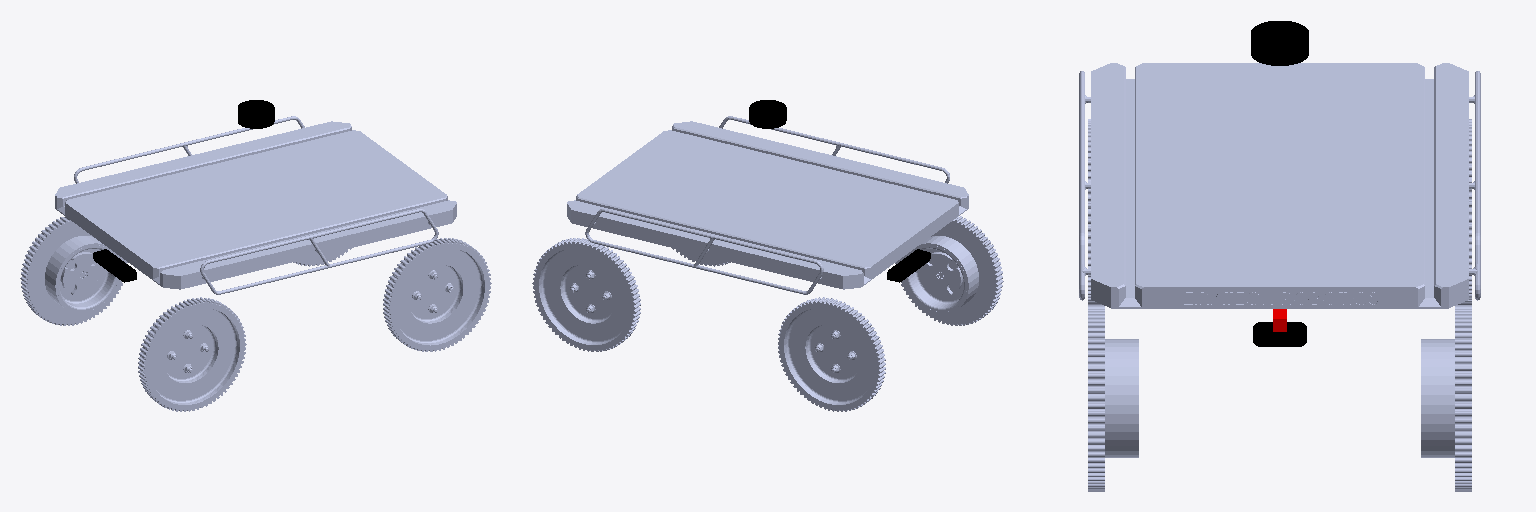
The robot description file, URDF, robot "cropMap_urdf":
<?xml version="1.0" ?> 
<robot name="cropMap_urdf" xmlns:xacro="http://www.ros.org/wiki/xacro"> 

  <!-- Include Gazebo colors --> 
  <material name="dark_grey"> 
    <color rgba="0.3 0.3 0.3 1.0"/> 
  </material> 
  <material name="light_grey"> 
    <color rgba="0.79216 0.81961 0.93333 1"/> 
  </material> 
  <material name="blue"> 
    <color rgba="0.0 0.0 0.8 1.0"/> 
  </material> 
  <material name="black"> 
    <color rgba="0.0 0.0 0.0 1.0"/> 
  </material> 
  <material name="red">
    <color rgba="1.0 0.0 0.0 1.0"/>
  </material>

  <!-- Base footprint (MUST BE FIRST/ROOT LINK) --> 
  <link name="base_footprint">
    <inertial>
      <mass value="0.1"/>
      <origin xyz="0 0 0"/>
      <inertia ixx="0.01" ixy="0.0" ixz="0.0" iyy="0.01" iyz="0.0" izz="0.01"/>
    </inertial>
  </link>

  <!-- Base Link --> 
  <link name="base_link"> 
    <inertial> 
      <origin xyz="0.018582 -0.00058815 -0.099852" rpy="0 0 0" /> 
      <mass value="32.31" /> 
      <inertia 
        ixx="0.92" ixy="0" ixz="0" 
        iyy="3.12" iyz="0" 
        izz="2.87" /> 
    </inertial> 
    <visual> 
      <origin xyz="0 0 0" rpy="0 0 0" /> 
      <geometry> 
	      <mesh filename="package://robot_description/meshes/base_link.STL" /> 
      </geometry> 
      <material name="light_grey"/> 
    </visual> 
    <collision> 
      <origin xyz="0 0 0" rpy="0 0 0" /> 
      <geometry> 
        <mesh filename="package://robot_description/meshes/base_link.STL" /> 
      </geometry> 
    </collision> 
  </link> 

  <!-- Joint between base_footprint and base_link -->
  <joint name="base_footprint_ref_joint" type="fixed"> 
    <origin xyz="0 0 .25" rpy="0 0 0" /> 
    <parent link="base_footprint" /> 
    <child link="base_link" /> 
    <axis xyz="0 1 0" /> 
  </joint> 

  <!-- Gazebo material for base_link --> 
  <gazebo reference="base_link"> 
    <material>Gazebo/Gray</material> 
  </gazebo> 

  <!-- Front Right Wheel --> 
  <link name="wheel_front_right"> 
    <inertial> 
      <origin xyz="-3.8916E-11 0.012822 1.02E-07" rpy="0 0 0" /> 
      <mass value=".041" /> 
      <inertia 
        ixx="0.04" ixy="0.0" ixz="0.0" 
        iyy="0.05" iyz="0.0" 
        izz="0.04" /> 
    </inertial> 
    <visual> 
      <origin xyz="0 0 0" rpy="0 0 0" /> 
      <geometry> 
        <mesh filename="package://robot_description/meshes/wheel_front_right.STL" /> 
      </geometry> 
      <material name="light_grey"/> 
    </visual> 
    <collision> 
      <origin xyz="0 0 0" rpy="0 0 0" /> 
      <geometry> 
        <mesh filename="package://robot_description/meshes/wheel_front_right.STL" /> 
      </geometry> 
    </collision> 
  </link> 

  <joint name="wheel_front_right_joint" type="continuous"> 
    <origin xyz="0.37976 0.2802 -0.078259" rpy="0 0 0" /> 
    <parent link="base_link" /> 
    <child link="wheel_front_right" /> 
    <axis xyz="0 1 0" /> 
    <dynamics damping="0.0001" friction="0.0001" /> 
  </joint> 

  <!-- Gazebo plugin for front right wheel --> 
  <gazebo reference="wheel_front_right"> 
    <material>Gazebo/DarkGray</material> 
    <mu1>1.0</mu1> 
    <mu2>1.0</mu2> 
    <kp>1000000.0</kp> 
    <kd>100.0</kd> 
    <minDepth>0.001</minDepth> 
    <maxVel>1.0</maxVel> 
    <fdir1>1 0 0</fdir1> 
  </gazebo> 

  <!-- Back Right Wheel --> 
  <link name="wheel_back_right"> 
    <inertial> 
      <origin xyz="-3.8916E-11 0.012822 1.02E-07" rpy="0 0 0" /> 
      <mass value=".041" /> 
      <inertia 
        ixx="0.04" ixy="0.0" ixz="0.0" 
        iyy="0.05" iyz="0.0" 
        izz="0.04" /> 
    </inertial> 
    <visual> 
      <origin xyz="0 0 0" rpy="0 0 0" /> 
      <geometry> 
        <mesh filename="package://robot_description/meshes/wheel_back_right.STL" /> 
      </geometry> 
      <material name="light_grey"/> 
    </visual> 
    <collision> 
      <origin xyz="0 0 0" rpy="0 0 0" /> 
      <geometry> 
        <mesh filename="package://robot_description/meshes/wheel_back_right.STL" /> 
      </geometry> 
    </collision> 
  </link> 
 
  <joint name="wheel_back_right_joint" type="continuous"> 
    <origin xyz="-0.38026 0.2802 -0.078259" rpy="0 0 0" /> 
    <parent link="base_link" /> 
    <child link="wheel_back_right" /> 
    <axis xyz="0 1 0" /> 
    <dynamics damping="0.0001" friction="0.0001" /> 
  </joint> 

  <!-- Gazebo plugin for back right wheel --> 
  <gazebo reference="wheel_back_right"> 
    <material>Gazebo/DarkGray</material> 
    <mu1>1.0</mu1> 
    <mu2>1.0</mu2> 
    <kp>1000000.0</kp> 
    <kd>100.0</kd> 
    <minDepth>0.001</minDepth> 
    <maxVel>1.0</maxVel> 
    <fdir1>1 0 0</fdir1> 
  </gazebo> 

  <!-- Back Left Wheel --> 
  <link name="wheel_back_left"> 
    <inertial> 
      <origin xyz="-1.02E-07 -0.012822 3.8916E-11" rpy="0 0 0" /> 
      <mass value=".041" /> 
      <inertia 
        ixx="0.04" ixy="0.0" ixz="0.0" 
        iyy="0.05" iyz="0.0" 
        izz="0.04" /> 
    </inertial> 
    <visual> 
      <origin xyz="0 0 0" rpy="0 0 0" /> 
      <geometry> 
        <mesh filename="package://robot_description/meshes/wheel_back_left.STL" /> 
      </geometry> 
      <material name="light_grey"/> 
    </visual> 
    <collision> 
      <origin xyz="0 0 0" rpy="0 0 0" /> 
      <geometry> 
        <mesh filename="package://robot_description/meshes/wheel_back_left.STL" /> 
      </geometry> 
    </collision> 
  </link> 

  <joint name="wheel_back_left_joint" type="continuous"> 
    <origin xyz="-0.38026 -0.2802 -0.078259" rpy="0 0 0" /> 
    <parent link="base_link" /> 
    <child link="wheel_back_left" /> 
    <axis xyz="0 1 0" /> 
    <dynamics damping="0.0001" friction="0.0001" /> 
  </joint> 
 
  <!-- Gazebo plugin for back left wheel --> 
  <gazebo reference="wheel_back_left"> 
    <material>Gazebo/DarkGray</material> 
    <mu1>1.0</mu1> 
    <mu2>1.0</mu2> 
    <kp>1000000.0</kp> 
    <kd>100.0</kd> 
    <minDepth>0.001</minDepth> 
    <maxVel>1.0</maxVel> 
    <fdir1>1 0 0</fdir1> 
  </gazebo> 

  <!-- Front Left Wheel --> 
  <link name="wheel_front_left"> 
    <inertial> 
      <origin xyz="3.8916E-11 -0.012822 1.02E-07" rpy="0 0 0" /> 
      <mass value=".041" /> 
      <inertia 
        ixx="0.04" ixy="0.0" ixz="0.0" 
        iyy="0.05" iyz="0.0" 
        izz="0.04" /> 
    </inertial> 
    <visual> 
      <origin xyz="0 0 0" rpy="0 0 0" /> 
      <geometry> 
        <mesh filename="package://robot_description/meshes/wheel_front_left.STL" /> 
      </geometry> 
      <material name="light_grey"/> 
    </visual> 
    <collision> 
      <origin xyz="0 0 0" rpy="0 0 0" /> 
      <geometry> 
        <mesh filename="package://robot_description/meshes/wheel_front_left.STL" /> 
      </geometry> 
    </collision> 
  </link> 

  <joint name="wheel_front_left_joint" type="continuous"> 
    <origin xyz="0.37976 -0.2802 -0.078259" rpy="0 0 0" /> 
    <parent link="base_link" /> 
    <child link="wheel_front_left" /> 
    <axis xyz="0 1 0" /> 
    <dynamics damping="0.0001" friction="0.0001" /> 
  </joint> 

  <!-- Gazebo plugin for front left wheel --> 
  <gazebo reference="wheel_front_left"> 
    <material>Gazebo/DarkGray</material> 
    <mu1>1.0</mu1> 
    <mu2>1.0</mu2> 
    <kp>1000000.0</kp> 
    <kd>100.0</kd> 
    <minDepth>0.001</minDepth> 
    <maxVel>1.0</maxVel> 
    <fdir1>1 0 0</fdir1> 
  </gazebo> 

  <!-- TC_V0 --> 
  <link name="TC_V0"> 
    <inertial> 
      <origin xyz="-7.5077E-05 -2.3538E-06 -0.015092" rpy="0 0 0" /> 
      <mass value="14.01" /> 
      <inertia 
        ixx="0.66" ixy="0.0" ixz="0.0" 
        iyy="1.01" iyz="0.0" 
        izz="1.66" /> 
    </inertial> 
    <visual> 
      <origin xyz="0 0 0" rpy="0 0 0" /> 
      <geometry> 
        <mesh filename="package://robot_description/meshes/TC_V0.STL" /> 
      </geometry> 
      <material name="light_grey"/> 
    </visual> 
    <collision> 
      <origin xyz="0 0 0" rpy="0 0 0" /> 
      <geometry> 
        <mesh filename="package://robot_description/meshes/TC_V0.STL" /> 
      </geometry> 
    </collision> 
  </link> 

  <joint name="TC_V0_joint" type="fixed"> 
    <origin xyz="0 0 0.16825" rpy="0 0 0" /> 
    <parent link="base_link" /> 
    <child link="TC_V0" /> 
  </joint> 

  <gazebo reference="TC_V0"> 
    <material>Gazebo/Gray</material> 
  </gazebo> 

  <!-- Add LiDAR sensor --> 
  <link name="lidar_link"> 
    <inertial> 
      <origin xyz="0 0 0" rpy="0 0 0" /> 
      <mass value="0.1" /> 
      <inertia 
        ixx="0.001" ixy="0.0" ixz="0.0" 
        iyy="0.001" iyz="0.0" 
        izz="0.001" /> 
    </inertial> 
    <visual> 
      <origin xyz="0 0 0" rpy="0 0 0" /> 
      <geometry> 
        <cylinder radius="0.05" length="0.04"/> 
      </geometry> 
      <material name="black"/> 
    </visual> 
    <collision> 
      <origin xyz="0 0 0" rpy="0 0 0" /> 
      <geometry> 
        <cylinder radius="0.05" length="0.04"/> 
      </geometry> 
    </collision> 
  </link> 

  <joint name="lidar_joint" type="fixed"> 
    <origin xyz="0 0 0.25" rpy="0 0 0" /> 
    <parent link="TC_V0" /> 
    <child link="lidar_link" /> 
  </joint> 

  <!-- CORRECTED Gazebo plugin for LiDAR --> 
  <gazebo reference="lidar_link">
    <sensor name="lidar_sensor" type="gpu_lidar">
      <pose>0 0 0 0 0 0</pose>
      <visualize>true</visualize>
      <update_rate>10</update_rate>
      <lidar>
        <scan>
          <horizontal>
            <samples>360</samples>
            <resolution>1</resolution>
            <min_angle>-3.14159</min_angle>
            <max_angle>3.14159</max_angle>
          </horizontal>
        </scan>
        <range>
          <min>0.1</min>
          <max>30.0</max>
          <resolution>0.01</resolution>
        </range>
        <noise>
          <type>gaussian</type>
          <mean>0.0</mean>
          <stddev>0.01</stddev>
        </noise>
      </lidar>
      <plugin filename="libgz-sim-sensors-system.so" name="gz::sim::systems::Sensors">
        <render_engine>ogre2</render_engine>
      </plugin>
    </sensor>
  </gazebo> 

  <!-- IMU Sensor --> 
  <link name="imu_link"> 
    <inertial> 
      <mass value="0.01"/> 
      <origin xyz="0 0 0" rpy="0 0 0"/> 
      <inertia ixx="0.0001" ixy="0" ixz="0" iyy="0.0001" iyz="0" izz="0.0001"/> 
    </inertial> 
    <visual> 
      <origin xyz="0 0 0" rpy="0 0 0"/> 
      <geometry> 
        <box size="0.02 0.02 0.01"/> 
      </geometry> 
      <material name="blue"/> 
    </visual> 
    <collision> 
      <origin xyz="0 0 0" rpy="0 0 0"/> 
      <geometry> 
        <box size="0.02 0.02 0.01"/> 
      </geometry> 
    </collision> 
  </link> 
 
  <joint name="imu_joint" type="fixed"> 
    <parent link="base_link"/> 
    <child link="imu_link"/> 
    <origin xyz="0 0 0.1" rpy="0 0 0"/> 
  </joint> 

  <!-- CORRECTED IMU plugin -->
  <gazebo reference="imu_link">
    <sensor name="imu_sensor" type="imu">
      <always_on>true</always_on>
      <update_rate>100</update_rate>
      <visualize>true</visualize>
      <plugin filename="libgz-sim-imu-system.so" name="gz::sim::systems::Imu">
      </plugin>
    </sensor>
  </gazebo>

  <!-- Add RGB-D Sensor --> 
  <link name="rgbd_camera_link"> 
    <inertial> 
      <origin xyz="0 0 0" rpy="0 0 0" /> 
      <mass value="0.125" /> 
      <inertia 
        ixx="0.001" ixy="0.0" ixz="0.0" 
        iyy="0.001" iyz="0.0" 
        izz="0.001" /> 
    </inertial> 
    <visual> 
      <origin xyz="0 0 0" rpy="0 0 0" /> 
      <geometry> 
        <box size="0.07 0.025 0.025"/> 
      </geometry> 
      <material name="red"/> 
    </visual> 
    <collision> 
      <origin xyz="0 0 0" rpy="0 0 0" /> 
      <geometry> 
        <box size="0.07 0.025 0.025"/> 
      </geometry> 
    </collision> 
  </link> 
 
  <joint name="rgbd_camera_joint" type="fixed"> 
    <origin xyz="0.43 0 0.1" rpy="0 0 0" /> 
    <parent link="base_link" /> 
    <child link="rgbd_camera_link" /> 
  </joint> 
 
  <!-- CORRECTED RGB-D Camera Gazebo Plugin --> 
  <gazebo reference="rgbd_camera_link"> 
    <material>Gazebo/Red</material> 
    <sensor name="rgbd_camera" type="rgbd_camera"> 
      <update_rate>20.0</update_rate> 
      <pose>0 0 0 0 0 0</pose>
      <camera name="depth"> 
        <horizontal_fov>1.047198</horizontal_fov> 
        <image> 
          <width>640</width> 
          <height>480</height> 
          <format>R8G8B8</format> 
        </image> 
        <clip> 
          <near>0.05</near> 
          <far>8.0</far> 
        </clip> 
        <noise> 
          <type>gaussian</type> 
          <mean>0.0</mean> 
          <stddev>0.007</stddev> 
        </noise> 
      </camera> 
      <plugin filename="libgz-sim-sensors-system.so" name="gz::sim::systems::Sensors">
        <render_engine>ogre2</render_engine>
      </plugin> 
    </sensor> 
  </gazebo> 
 
  <!-- RGB-D Camera Optical Frame --> 
  <link name="rgbd_camera_optical_frame"/> 
  <joint name="rgbd_camera_optical_joint" type="fixed"> 
    <origin xyz="0 0 0" rpy="-1.5708 0 -1.5708" /> 
    <parent link="rgbd_camera_link" /> 
    <child link="rgbd_camera_optical_frame" /> 
  </joint> 

  <!-- Back Camera --> 
  <link name="back_camera"> 
    <inertial> 
      <origin xyz="-0.032487 0.0089676 -0.0027971" rpy="0 0 0" /> 
      <mass value="0.1" /> 
      <inertia 
        ixx="0.001" ixy="0.0" ixz="0.0" 
        iyy="0.001" iyz="0.0" 
	      izz="0.001" /> 
    </inertial> 
    <visual> 
      <origin xyz="0 0 0" rpy="0 0 0" /> 
      <geometry> 
        <mesh filename="package://robot_description/meshes/back_camera.STL" /> 
      </geometry> 
      <material name="black"/> 
    </visual> 
  </link> 

  <joint name="back_camera_joint" type="fixed"> 
    <origin xyz="-0.40479 -0.0089685 0.073466" rpy="0 0 0" /> 
    <parent link="base_link" /> 
    <child link="back_camera" /> 
  </joint> 

  <!-- CORRECTED Gazebo plugin for back camera --> 
  <gazebo reference="back_camera">
    <sensor name="back_camera" type="camera">
      <update_rate>30.0</update_rate>
      <pose>0 0 0 0 0 0</pose>
      <camera name="back">
        <horizontal_fov>1.047</horizontal_fov>
        <image>
          <width>640</width>
          <height>480</height>
          <format>R8G8B8</format>
        </image>
        <clip>
          <near>0.1</near>
          <far>100</far>
        </clip>
        <noise>
          <type>gaussian</type>
          <mean>0.0</mean>
          <stddev>0.007</stddev>
        </noise>
      </camera>
      <plugin filename="libgz-sim-sensors-system.so" name="gz::sim::systems::Sensors">
        <render_engine>ogre2</render_engine>
      </plugin>
    </sensor>
  </gazebo>

  <link name="back_camera_optical_frame"/>
  <joint name="back_camera_optical_joint" type="fixed">
    <origin xyz="0 0 0" rpy="-1.5708 0 1.5708" />
    <parent link="back_camera" />
    <child link="back_camera_optical_frame" />
  </joint>
 
  <!-- Front Camera --> 
  <link name="front_camera"> 
    <inertial> 
      <origin xyz="0.012395 -0.012586 0.0091516" rpy="0 0 0" /> 
      <mass value="0.1" /> 
      <inertia 
        ixx="0.001" ixy="0.0" ixz="0.0" 
        iyy="0.001" iyz="0.0" 
        izz="0.001" /> 
    </inertial> 
    <visual> 
      <origin xyz="0 0 0" rpy="0 0 0" /> 
      <geometry> 
        <mesh filename="package://robot_description/meshes/front_camera.STL" /> 
      </geometry> 
      <material name="black"/> 
    </visual> 
  </link> 

  <joint name="front_camera_joint" type="fixed"> 
    <origin xyz="0.42423 0.0126 0.060602" rpy="0 0 0" /> 
    <parent link="base_link" /> 
    <child link="front_camera" /> 
  </joint> 

  <!-- CORRECTED Gazebo plugin for front camera --> 
  <gazebo reference="front_camera">
    <sensor name="front_camera" type="camera">
      <update_rate>30.0</update_rate>
      <pose>0 0 0 0 0 0</pose>
      <camera name="front">
        <horizontal_fov>1.047</horizontal_fov>
        <image>
          <width>640</width>
          <height>480</height>
          <format>R8G8B8</format>
        </image>
        <clip>
          <near>0.1</near>
          <far>100</far>
        </clip>
        <noise>
          <type>gaussian</type>
          <mean>0.0</mean>
          <stddev>0.007</stddev>
        </noise>
      </camera>
      <plugin filename="libgz-sim-sensors-system.so" name="gz::sim::systems::Sensors">
        <render_engine>ogre2</render_engine>
      </plugin>
    </sensor>
  </gazebo>

  <link name="front_camera_optical_frame"/>
  <joint name="front_camera_optical_joint" type="fixed">
    <origin xyz="0 0 0" rpy="-1.5708 0 -1.5708" />
    <parent link="front_camera" />
    <child link="front_camera_optical_frame" />
  </joint>

  <!-- CORRECTED Differential Drive Controller --> 
  <gazebo>
    <plugin filename="libgz-sim-diff-drive-system.so" name="gz::sim::systems::DiffDrive">
      <left_joint>wheel_front_left_joint</left_joint>
      <left_joint>wheel_back_left_joint</left_joint>
      <right_joint>wheel_front_right_joint</right_joint>
      <right_joint>wheel_back_right_joint</right_joint>
      <wheel_separation>0.56</wheel_separation>
      <wheel_radius>0.1</wheel_radius>
      <odom_publish_frequency>50</odom_publish_frequency>
      <max_linear_velocity>1.0</max_linear_velocity>
      <min_linear_velocity>-1.0</min_linear_velocity>
      <max_angular_velocity>2.0</max_angular_velocity>
      <min_angular_velocity>-2.0</min_angular_velocity>
      <topic>cmd_vel</topic>
      <odom_topic>odom</odom_topic>
      <frame_id>odom</frame_id>
      <child_frame_id>base_footprint</child_frame_id>
    </plugin>
  </gazebo>

  <!-- Joint State Publisher Plugin -->
  <gazebo>
    <plugin filename="libgz-sim-joint-state-publisher-system.so" 
            name="gz::sim::systems::JointStatePublisher">
    </plugin>
  </gazebo>

</robot>

--- Facts derived from the render (not from the file) ---
Views: 3 orthographic renders of the robot side by side, from view 1: azimuth 30°, elevation 25°; view 2: azimuth 150°, elevation 25°; view 3: azimuth 270°, elevation 25°.
Model cropMap_urdf with 15 links and 14 joints (4 continuous, 10 fixed), rooted at base_footprint, posed all joints at 0.
Links seen in each view (by area): view 1: TC_V0, wheel_back_left, wheel_front_left, wheel_back_right, lidar_link, back_camera; view 2: TC_V0, wheel_back_right, wheel_front_right, wheel_back_left, lidar_link, back_camera; view 3: TC_V0, wheel_front_right, wheel_front_left, lidar_link, front_camera, wheel_back_right, wheel_back_left.
Link boxes in pixels (box(x1,y1,x2,y2)): TC_V0: box(55, 116, 456, 294); wheel_back_left: box(138, 297, 246, 411); wheel_front_left: box(383, 238, 491, 351); wheel_back_right: box(20, 216, 127, 325); lidar_link: box(238, 100, 274, 128); back_camera: box(93, 249, 136, 282); TC_V0: box(567, 116, 968, 294); wheel_back_right: box(778, 297, 885, 411); wheel_front_right: box(532, 238, 640, 351); wheel_back_left: box(895, 216, 1003, 325); lidar_link: box(749, 100, 786, 128); back_camera: box(887, 249, 930, 282); TC_V0: box(1079, 63, 1480, 308); wheel_front_right: box(1421, 305, 1471, 491); wheel_front_left: box(1088, 305, 1138, 491); lidar_link: box(1251, 21, 1308, 65); front_camera: box(1253, 322, 1306, 346); wheel_back_right: box(1458, 119, 1471, 304); wheel_back_left: box(1088, 119, 1101, 304).
Bounding box of the posed robot: 1.08 × 0.69 × 0.6765 m (x, y, z).
7 mesh visuals loaded from 8 distinct referenced files (7 binary STL); not drawn: 1 (file found but could not be loaded).
